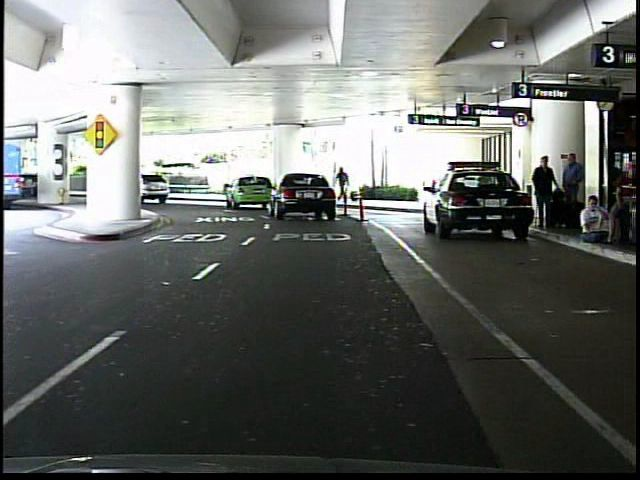person: (557, 148, 587, 231), (531, 153, 560, 231), (336, 161, 353, 204)
